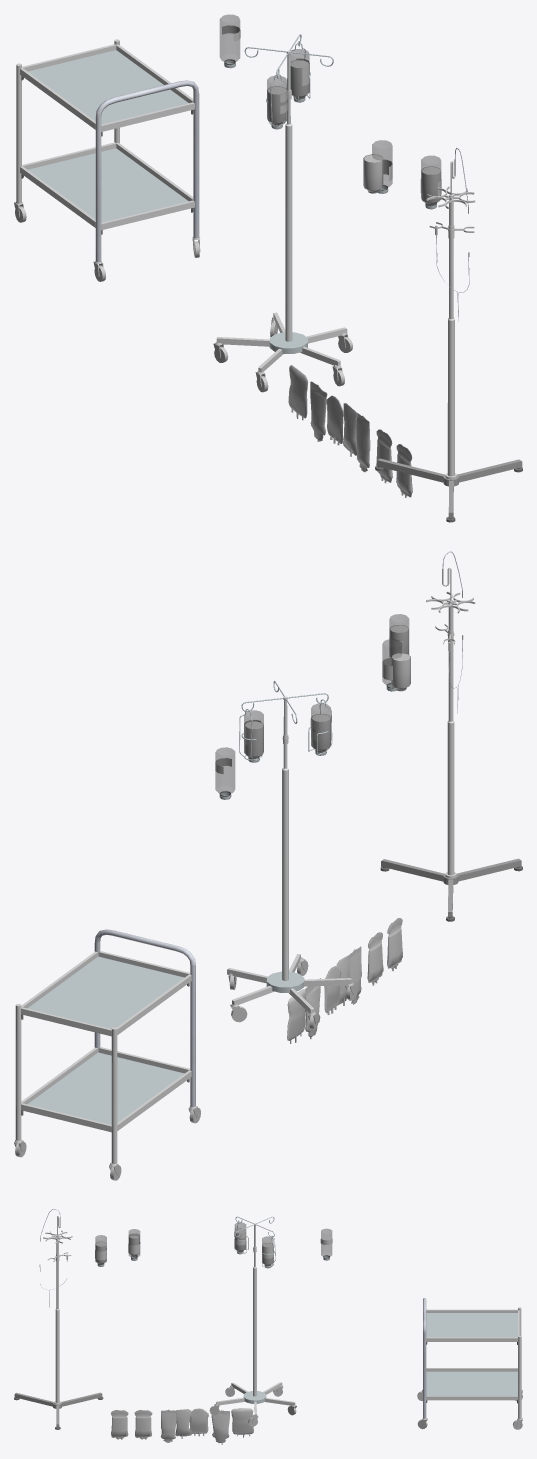
File: Medicine_and_tripod.fbx
3 views of the same model, one above another, from view 1: azimuth 30°, elevation 25°; view 2: azimuth 150°, elevation 25°; view 3: azimuth 270°, elevation 25° (orthographic). The views are drawn at different scales.
Visible parts, largest first — view 1: Main1, Main2, Main_body2, Main5, Main, Main_body1, Rollers1, Bottles2, Bottles4, Bottles3, Bottles1, Blood1 (+12 smaller); view 2: Main1, Main2, Main5, Main_body2, Main, Main_body1, Bottles2, Bottles3, Bottles1, Rollers1, Bottles4, Blood1; view 3: Main1, Main2, Main5, Main_body2, Main, Blood1, Main_body1, Liquid_medicine4, Liquid_medicine, Liquid_medicine5, Liquid_medicine1, Blood (+7 smaller).
Boxes of the visible parts, x1,y1,x2,y2 form: Main1: (20,44,194,230); Main2: (16,39,199,261); Main_body2: (285,50,292,341); Main5: (447,194,454,476); Main: (376,458,522,518); Main_body1: (216,312,347,372); Rollers1: (213,317,352,392); Bottles2: (220,14,240,68); Bottles4: (420,156,441,209); Bottles3: (267,76,287,129); Bottles1: (291,49,309,102); Blood1: (288,365,308,420); Main1: (21,951,191,1132); Main2: (15,929,195,1163); Main5: (447,600,454,875); Main_body2: (282,696,288,980); Main: (381,858,521,917); Main_body1: (227,954,351,1013); Bottles2: (215,747,234,799); Bottles3: (310,704,330,755); Bottles1: (244,710,263,762); Rollers1: (228,957,357,1029); Bottles4: (389,614,408,657); Blood1: (287,989,306,1043); Main1: (426,1309,519,1400); Main2: (423,1298,521,1418); Main5: (55,1235,59,1402); Main_body2: (253,1223,256,1396); Main: (14,1392,102,1427); Blood1: (231,1408,253,1437); Main_body1: (216,1382,295,1417); Liquid_medicine4: (211,1410,229,1444); Liquid_medicine: (134,1410,152,1439); Liquid_medicine5: (160,1409,176,1442); Liquid_medicine1: (111,1410,128,1439); Blood: (189,1408,208,1436).
Bounding box in the file's own units: 0.7669 × 2.41 × 4.72.
